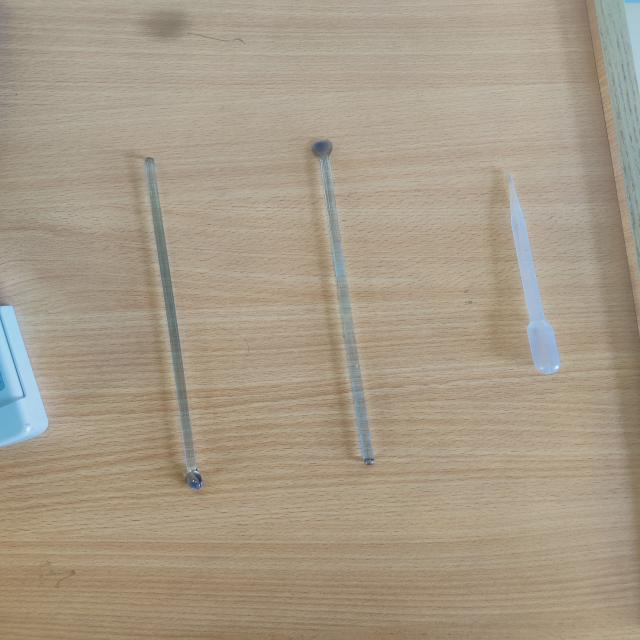Glass_Rod: (111, 132, 253, 508), (282, 131, 430, 490)
Pipette: (468, 139, 598, 394)
